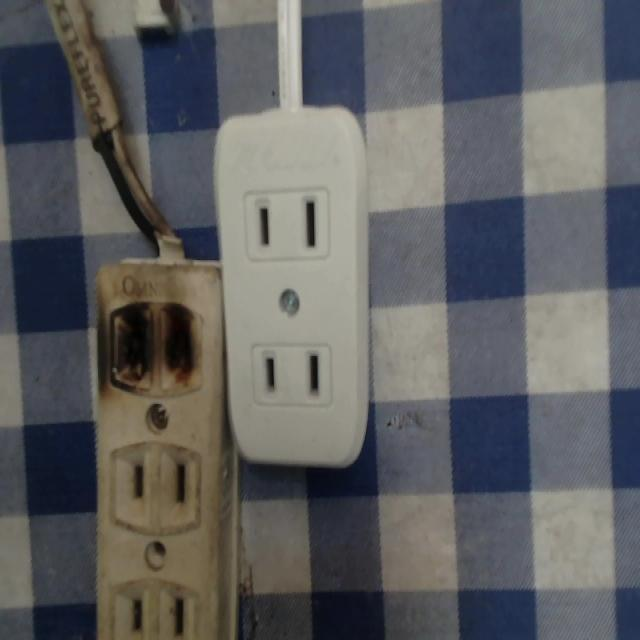-: (99, 294, 208, 394)
